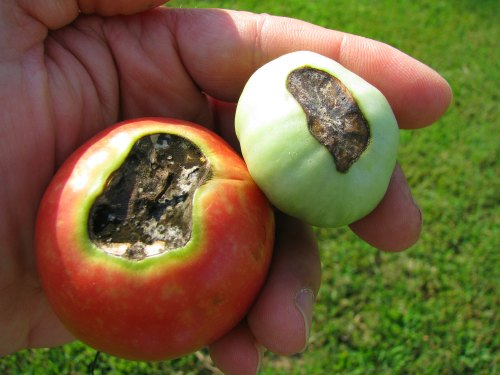blossom_rotw: (85, 132, 226, 277), (284, 59, 384, 190)
